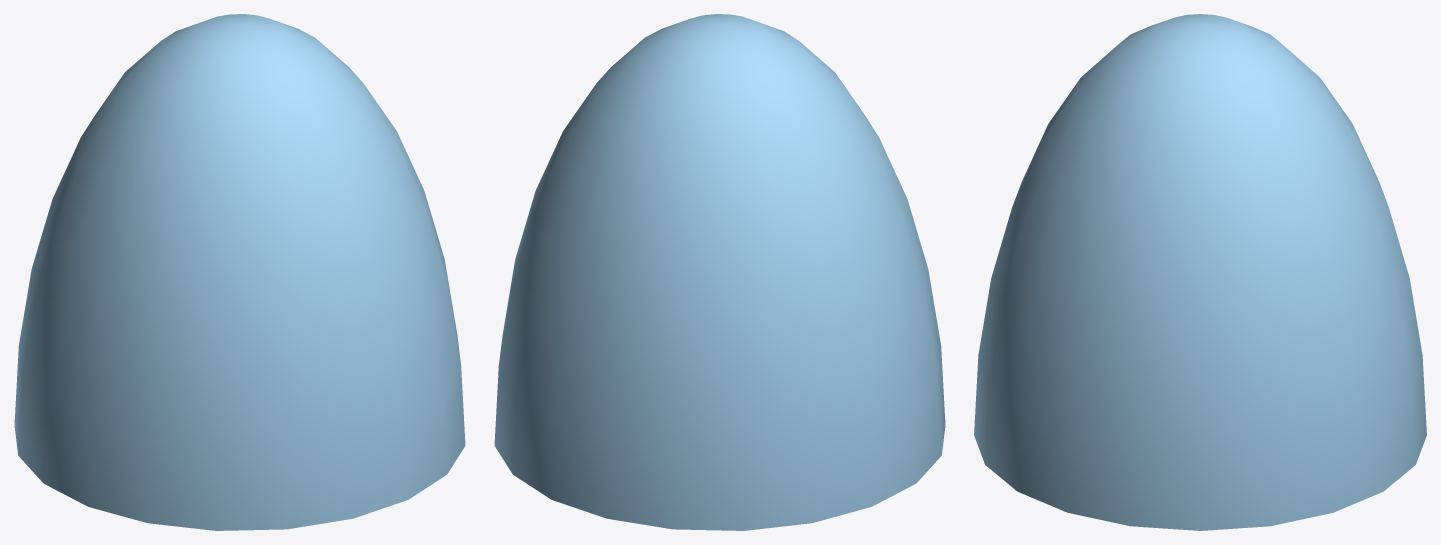
File: spring.glb
3 renders of one model, left to right at view 1: azimuth 30°, elevation 25°; view 2: azimuth 150°, elevation 25°; view 3: azimuth 270°, elevation 25°, orthographic.
Parts seen in each view (by area): view 1: spring; view 2: spring; view 3: spring.
Boxes of the visible parts, <box> form: spring: <box>14,14,465,530</box>; spring: <box>494,14,945,530</box>; spring: <box>974,14,1426,530</box>.
Bounding box in the file's own units: 1 × 1 × 1.
